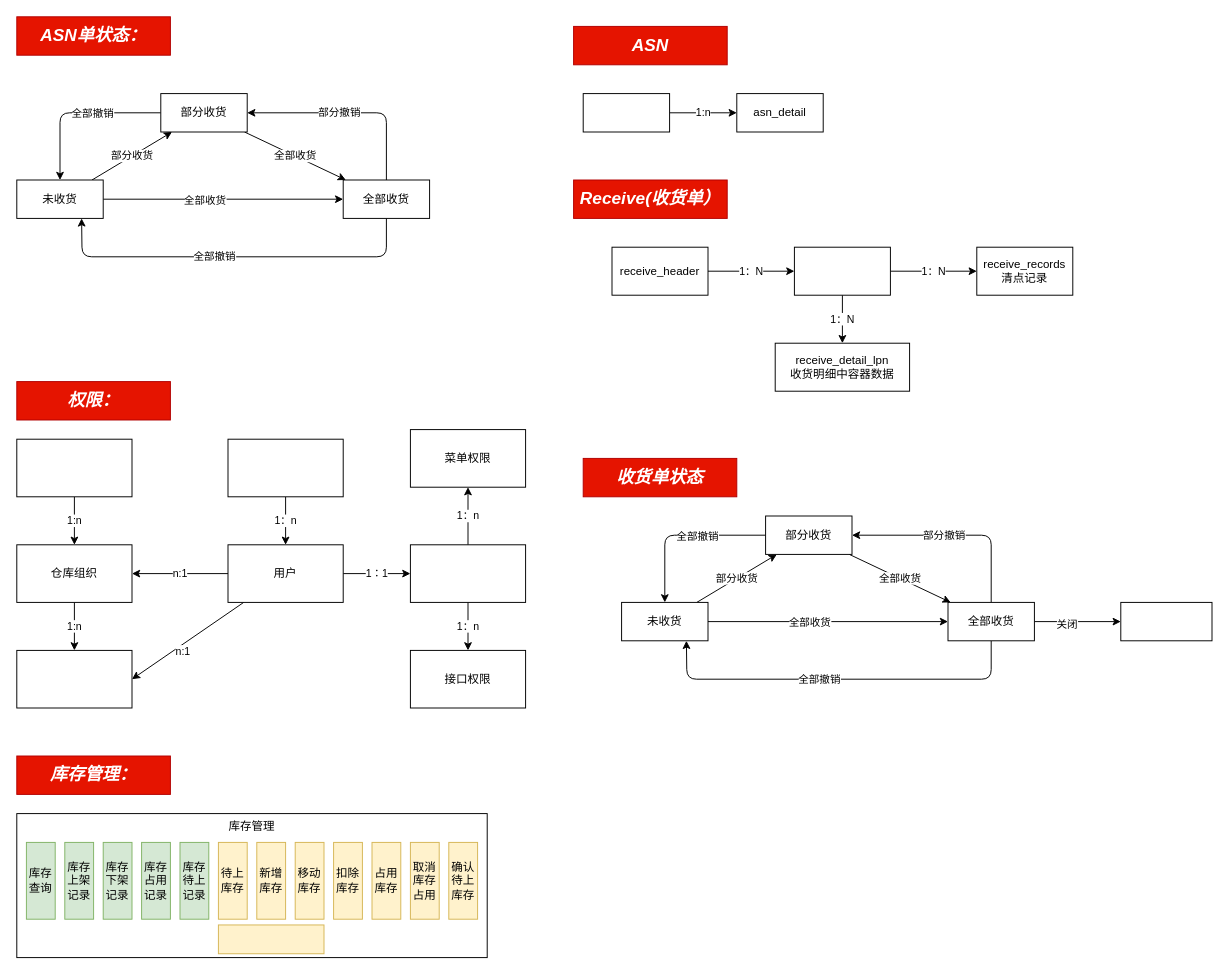
The diagram is 1229 pixels wide and 974 high, and some of its shapes have lost their labels. Here are the shapes that lost their labels. From the top down, the centre of each, then its label:
At pixel 626 112: "asn_header".
At pixel 841 270: "receive_detail".
At pixel 74 467: "公司".
At pixel 285 467: "机构".
At pixel 467 573: "角色".
At pixel 1166 621: "已关闭".
At pixel 74 678: "库房".
At pixel 270 939: "库存合并".
